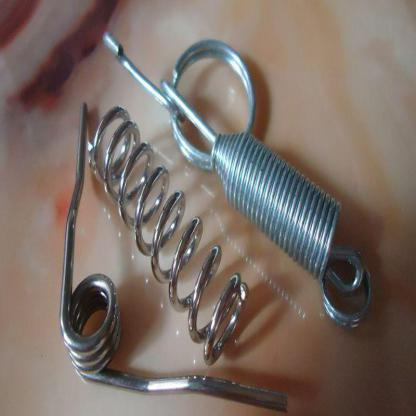FOD: (57, 96, 292, 415), (159, 75, 377, 334), (87, 101, 251, 371)
